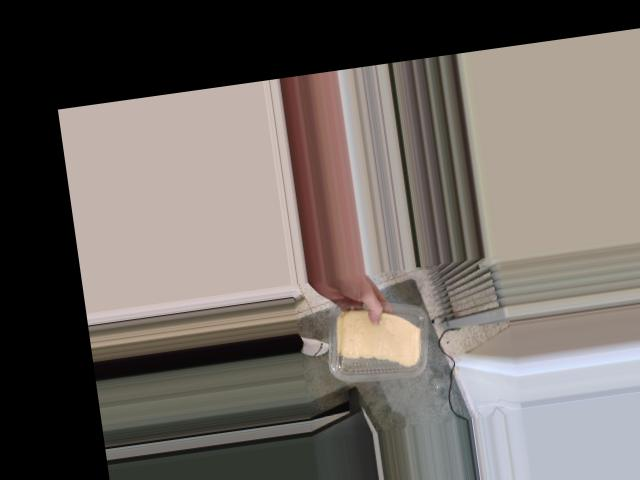cheese: (322, 294, 432, 381)
